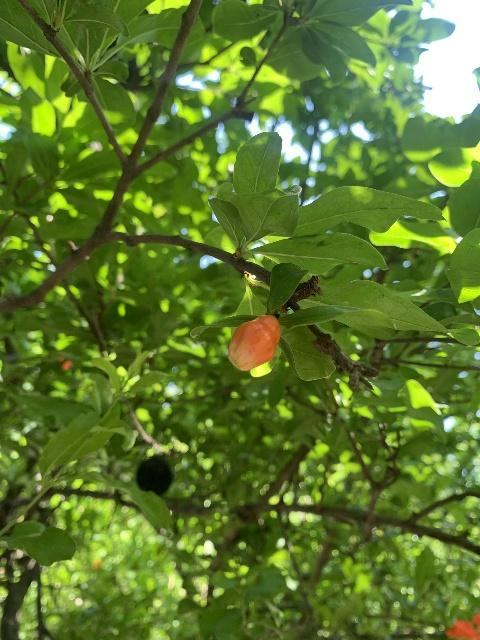bud: (228, 313, 280, 371)
